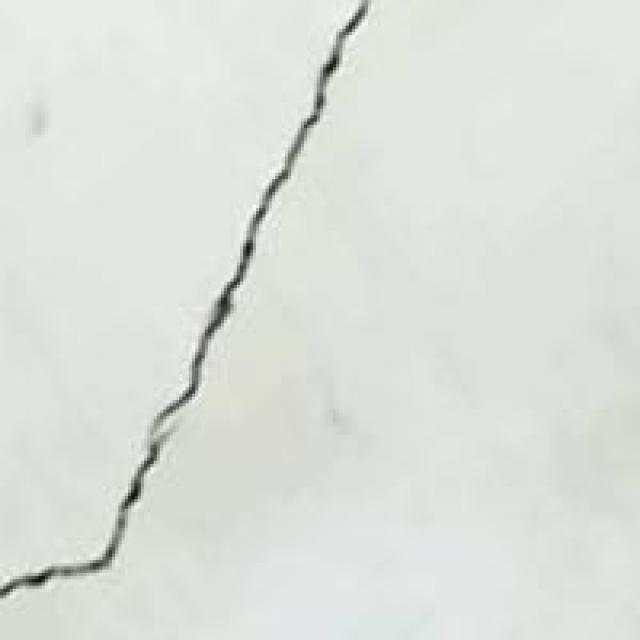Crack: (0, 0, 368, 611)
